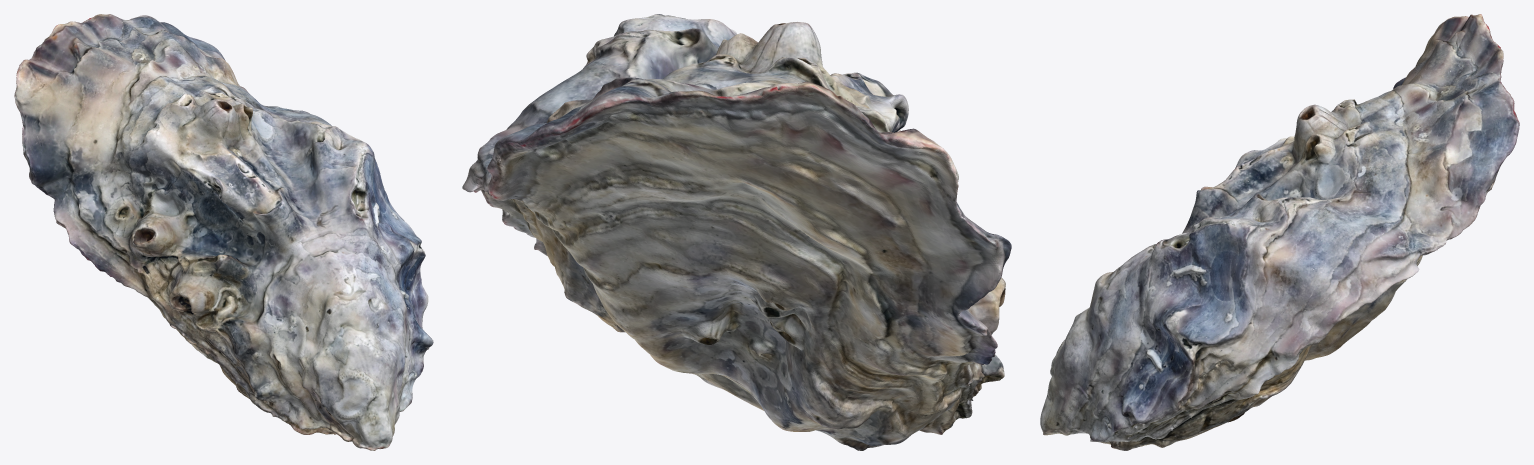
Rendered from MZUR3D-040.glb.
3 renders of one model, left to right at view 1: azimuth 30°, elevation 25°; view 2: azimuth 150°, elevation 25°; view 3: azimuth 270°, elevation 25°, orthographic. The views are drawn at different scales.
Parts seen in each view (by area): view 1: MZUR3D-040; view 2: MZUR3D-040; view 3: MZUR3D-040.
Boxes of the visible parts, box(x1,y1,x2,y2) form: MZUR3D-040: box(14, 14, 433, 450); MZUR3D-040: box(462, 14, 1011, 450); MZUR3D-040: box(1040, 14, 1519, 450).
Bounding box in the file's own units: 4.84 × 4.74 × 5.73.
1 material, 1 textured.
